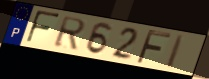2: (109, 27, 140, 62)
6: (84, 22, 113, 56)
F: (134, 28, 173, 66), (24, 9, 62, 46)
I: (164, 34, 187, 70)
R: (52, 15, 88, 51)
